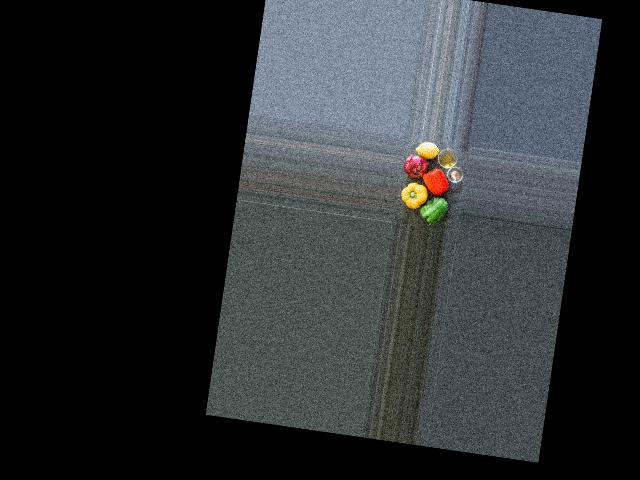bell_pepper: (419, 166, 452, 196)
